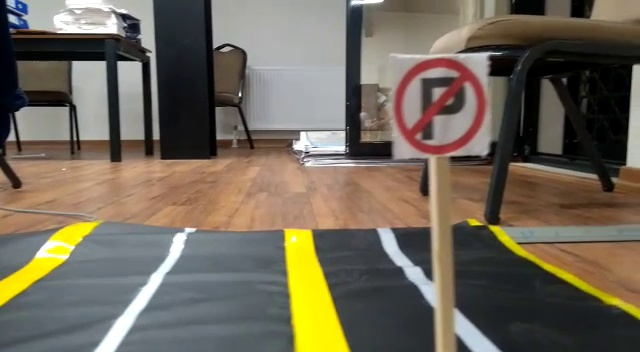park_yapilmaz: (390, 51, 491, 159)
